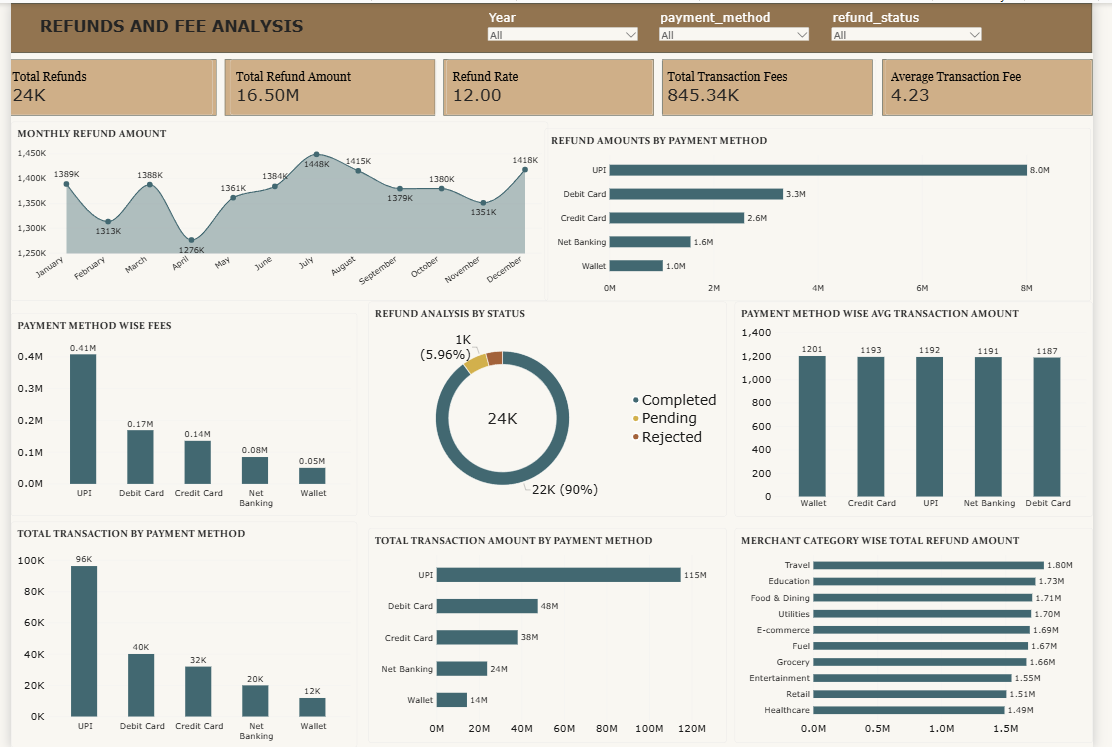

The page's visual inventory and layout, read from the dashboard file:
{"tool":"powerbi","page":{"name":"PAYMENT,FEE & REFUND ANALYSIS","canvas":[2900,2000],"ordinal":2},"visuals":[{"type":"group","id":"g1","title":"Group 4","box":[-12,0,2912,301.7],"z":0},{"type":"group","id":"g2","title":"Group 1","box":[-12,0,2912,134.1],"z":0,"group":"g1"},{"type":"shape","box":[-12,0,2912,134.1],"z":0,"group":"g2"},{"type":"shape","box":[-12,150.9,564.3,150.9],"z":0,"group":"g3"},{"type":"textbox","box":[76.9,33.5,1022.5,67],"z":1000,"group":"g2"},{"type":"group","id":"g3","title":"Group 2","box":[-12,150.9,2912,150.9],"z":1000,"group":"g1"},{"type":"shape","box":[574.9,150.9,564.3,150.9],"z":1000,"group":"g3"},{"type":"clusteredColumnChart","title":"TOTAL TRANSACTION BY PAYMENT METHOD","fields":{"Category":["public transactions.payment_method"],"Y":["public customers.Total Transactions"]},"box":[0,1392,928,608],"z":1000},{"type":"slicer","fields":{"Values":["public transactions.payment_method"]},"box":[1735.2,16.8,412.5,83.8],"z":2000,"group":"g2"},{"type":"cardVisual","fields":{"Data":["public customers.Total Transaction Fees"]},"box":[1744.1,150.9,578,150.9],"z":2000,"group":"g1"},{"type":"shape","box":[2335.7,150.9,564.3,150.9],"z":2000,"group":"g3"},{"type":"clusteredBarChart","title":"TOTAL TRANSACTION AMOUNT BY PAYMENT METHOD","fields":{"Category":["public transactions.payment_method"],"Y":["public customers.Total Transaction Value"]},"box":[960,1408,960,576],"z":2000},{"type":"slicer","fields":{"Values":["public refunds.refund_status"]},"box":[2196.3,16.8,412.5,83.8],"z":3000,"group":"g2"},{"type":"cardVisual","fields":{"Data":["public customers.Total Refund Amount"]},"box":[588.2,150.9,555.7,150.9],"z":3000,"group":"g1"},{"type":"shape","box":[1161.8,150.9,564.3,150.9],"z":3000,"group":"g3"},{"type":"clusteredColumnChart","title":"PAYMENT METHOD WISE FEES","fields":{"Category":["public transactions.payment_method"],"Y":["public customers.Total Transaction Fees"]},"box":[0,832,928,544],"z":3000},{"type":"slicer","fields":{"Values":["public transactions.transaction_date.Variation.Date Hierarchy.Year"]},"box":[1274.1,16.8,412.5,83.8],"z":4000,"group":"g2"},{"type":"cardVisual","fields":{"Data":["public customers.Refund Rate"]},"box":[1166.1,150.9,555.7,150.9],"z":4000,"group":"g1"},{"type":"shape","box":[1748.7,150.9,564.3,150.9],"z":4000,"group":"g3"},{"type":"donutChart","title":"REFUND ANALYSIS BY STATUS","fields":{"Category":["public refunds.refund_status"],"Y":["public customers.Total Refunds"]},"box":[960,800,960,576],"z":4000},{"type":"cardVisual","fields":{"Data":["public customers.Total Refunds"]},"box":[-12,150.9,555.7,150.9],"z":5000,"group":"g1"},{"type":"clusteredBarChart","title":"REFUND AMOUNTS BY PAYMENT METHOD","fields":{"Category":["public transactions.payment_method"],"Y":["public customers.Total Refund Amount"]},"box":[1432,336,1464,464],"z":5000},{"type":"cardVisual","fields":{"Data":["public customers.Average Transaction Fee"]},"box":[2344.3,150.9,555.7,150.9],"z":6000,"group":"g1"},{"type":"clusteredBarChart","title":"MERCHANT CATEGORY WISE TOTAL REFUND AMOUNT","fields":{"Category":["public merchants.merchant_category"],"Y":["public customers.Total Refund Amount"]},"box":[1940,1408,960,576],"z":6000},{"type":"lineChart","title":"MONTHLY REFUND AMOUNT","fields":{"Category":["public refunds.refund_date.Variation.Date Hierarchy.Month"],"Y":["public customers.Total Refund Amount"]},"box":[0,320,1440,480],"z":7000},{"type":"clusteredColumnChart","title":"PAYMENT METHOD WISE AVG TRANSACTION AMOUNT","fields":{"Category":["public transactions.payment_method"],"Y":["public customers.Average Transaction Amount"]},"box":[1940,800,960,576],"z":8000}]}

Visuals, with their boxes in screenshot pixels (x1, y1, x2, y2), scaled from the page's 2900x2000 canvas onto the 1112x747 screenshot:
"Group 4" group: 0, 0, 1111, 113
"Group 1" group: 0, 0, 1111, 50
shape: 0, 0, 1111, 50
shape: 0, 56, 212, 113
textbox: 29, 13, 422, 38
"Group 2" group: 0, 56, 1111, 113
shape: 220, 56, 437, 113
"TOTAL TRANSACTION BY PAYMENT METHOD" clusteredColumnChart: 0, 520, 356, 746
slicer - public transactions.payment_method: 665, 6, 824, 38
cardVisual - public customers.Total Transaction Fees: 669, 56, 890, 113
shape: 896, 56, 1111, 113
"TOTAL TRANSACTION AMOUNT BY PAYMENT METHOD" clusteredBarChart: 368, 526, 736, 741
slicer - public refunds.refund_status: 842, 6, 1000, 38
cardVisual - public customers.Total Refund Amount: 226, 56, 439, 113
shape: 445, 56, 662, 113
"PAYMENT METHOD WISE FEES" clusteredColumnChart: 0, 311, 356, 514
slicer - public transactions.transaction_date.Variation.Date Hierarchy.Year: 489, 6, 647, 38
cardVisual - public customers.Refund Rate: 447, 56, 660, 113
shape: 671, 56, 887, 113
"REFUND ANALYSIS BY STATUS" donutChart: 368, 299, 736, 514
cardVisual - public customers.Total Refunds: 0, 56, 208, 113
"REFUND AMOUNTS BY PAYMENT METHOD" clusteredBarChart: 549, 125, 1110, 299
cardVisual - public customers.Average Transaction Fee: 899, 56, 1111, 113
"MERCHANT CATEGORY WISE TOTAL REFUND AMOUNT" clusteredBarChart: 744, 526, 1111, 741
"MONTHLY REFUND AMOUNT" lineChart: 0, 120, 552, 299
"PAYMENT METHOD WISE AVG TRANSACTION AMOUNT" clusteredColumnChart: 744, 299, 1111, 514
